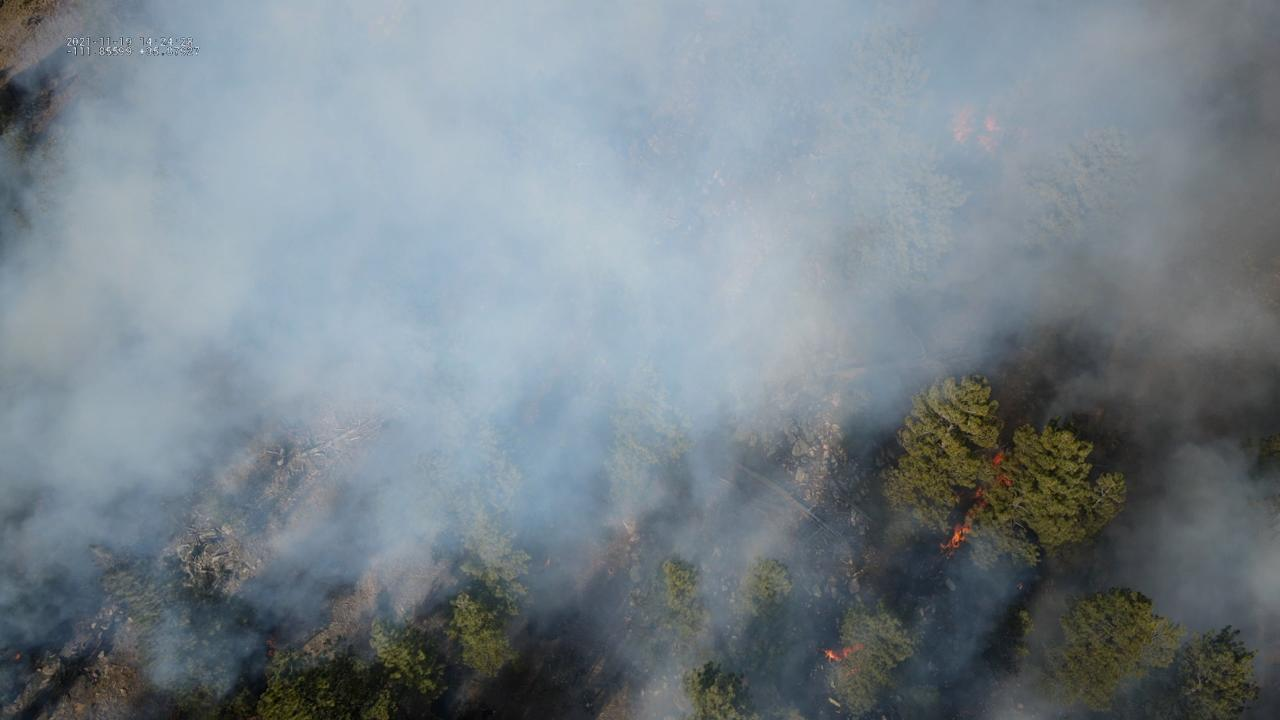fire: (937, 518, 973, 561), (822, 639, 864, 664), (947, 108, 975, 145), (984, 113, 1002, 131), (973, 487, 987, 508), (997, 473, 1014, 488), (990, 453, 1004, 467), (542, 553, 553, 568), (1016, 581, 1027, 591), (266, 649, 274, 657)
smoke: (0, 0, 1280, 720)
